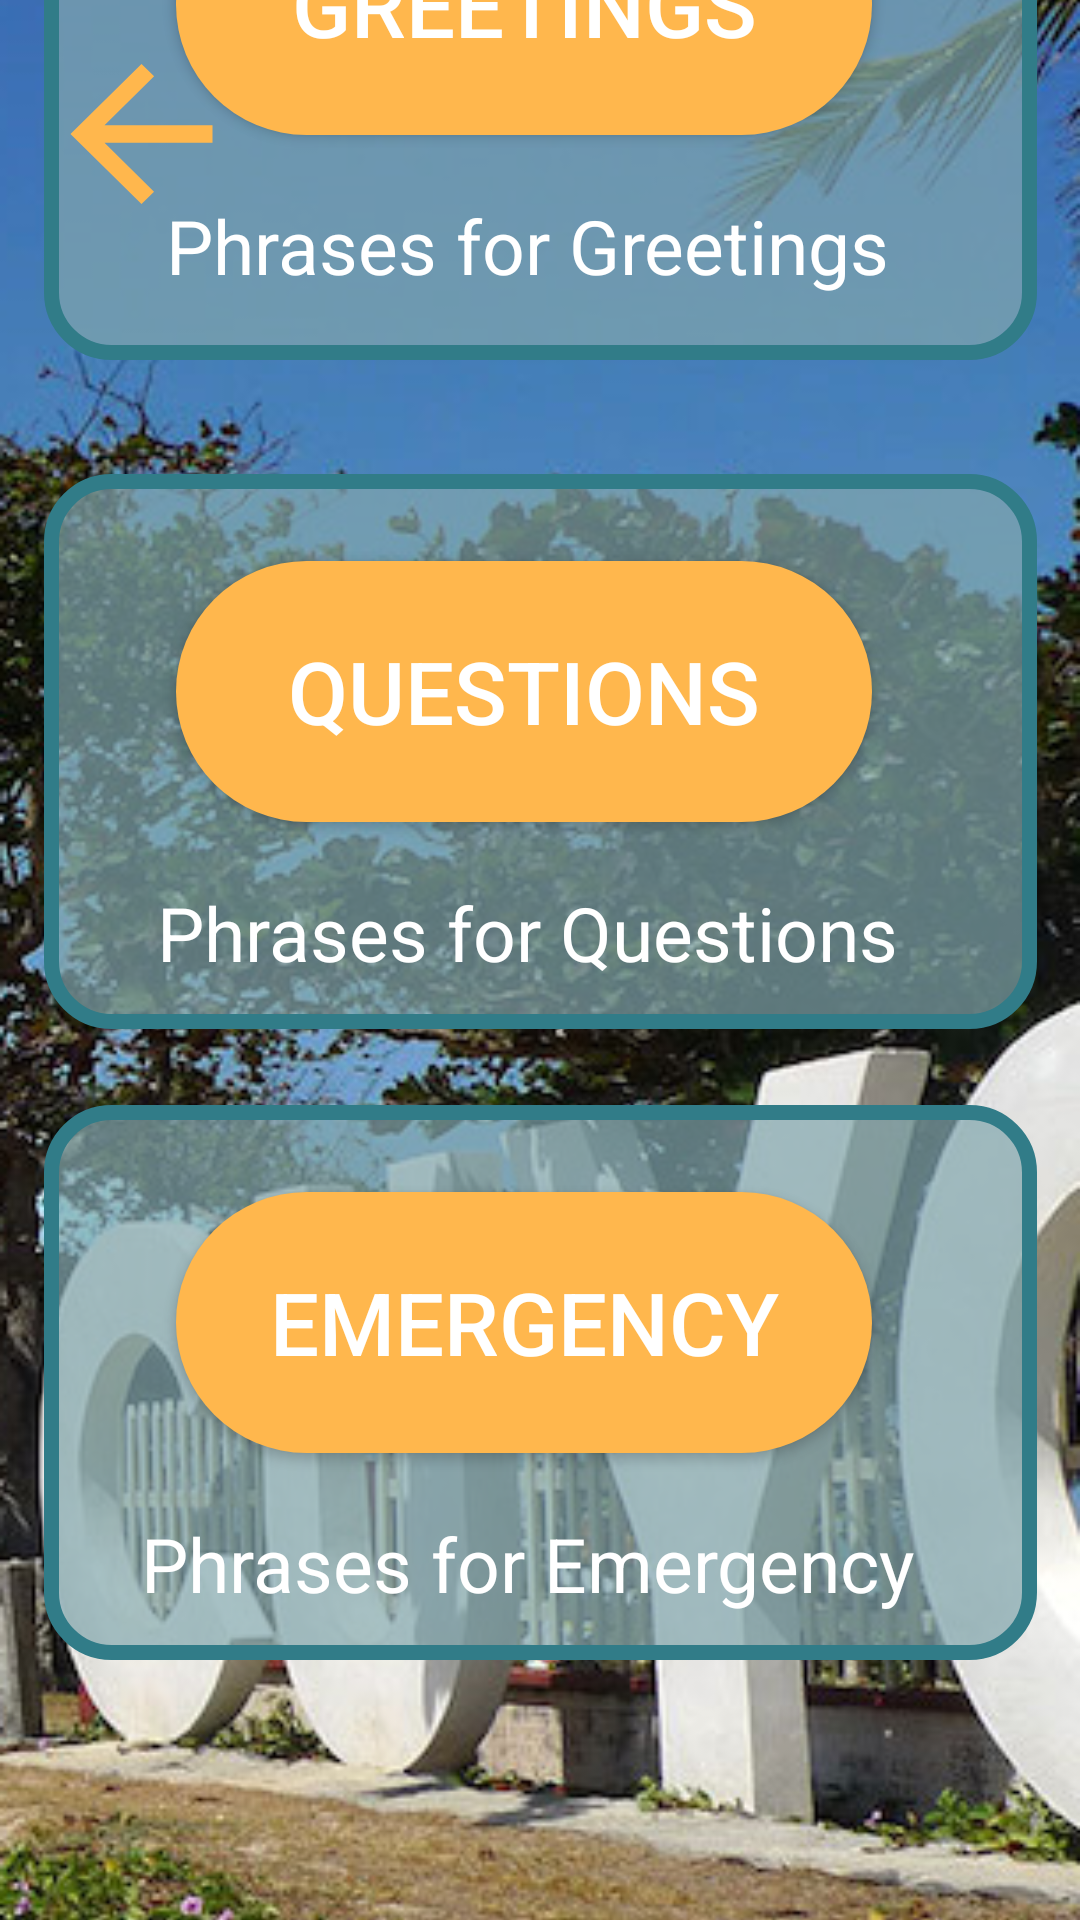

Where to tap for icons on this 1080×1920 app screen, as (x,y):
rowback: (141,134)
